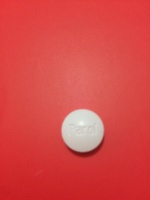Parol: (60, 108, 106, 154)
